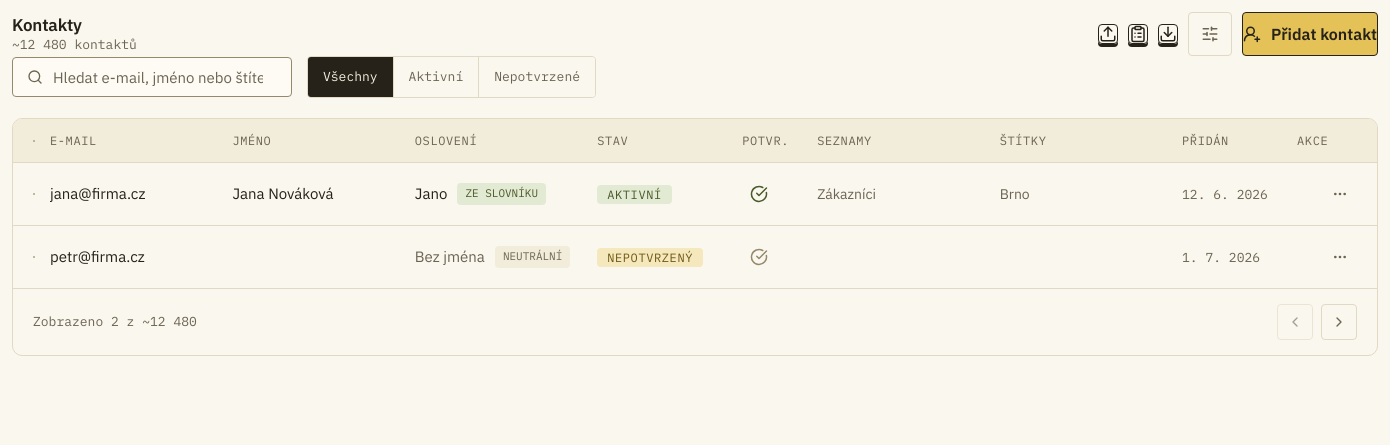
it: ContactsTable: potvrzení v řádku › hromadná akce nad výběrem zůstává, protože je užitečná u dávky
Click the 2nd checkbox named "Vybrat kontakt". click: (34, 257)
box: [33,256,35,258]
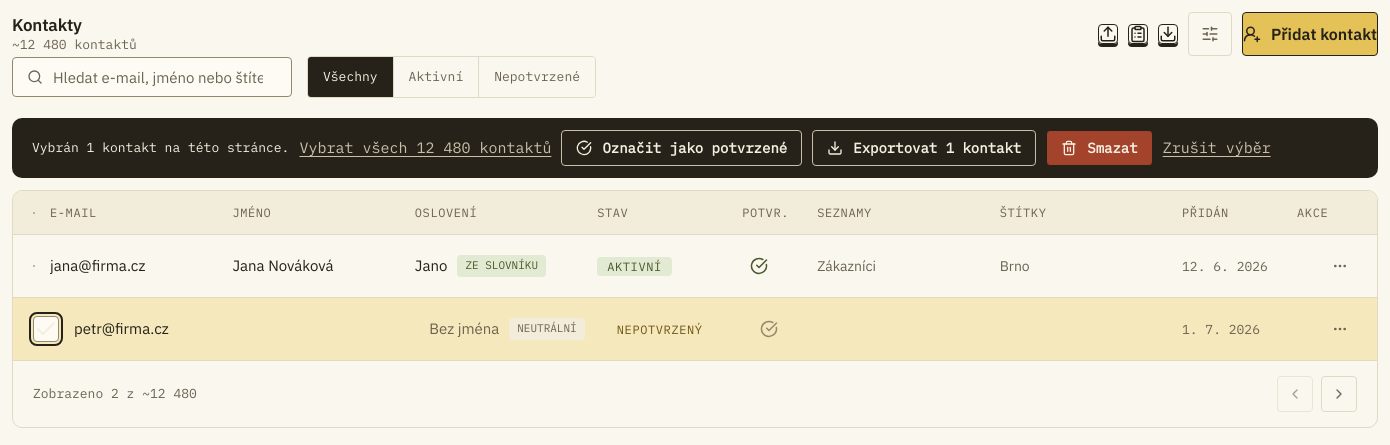
Expected: the button "Označit jako potvrzené" is shown, [561,130,802,166]
